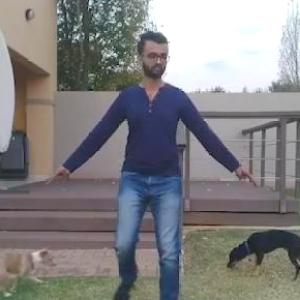land: (71, 50, 232, 299)
